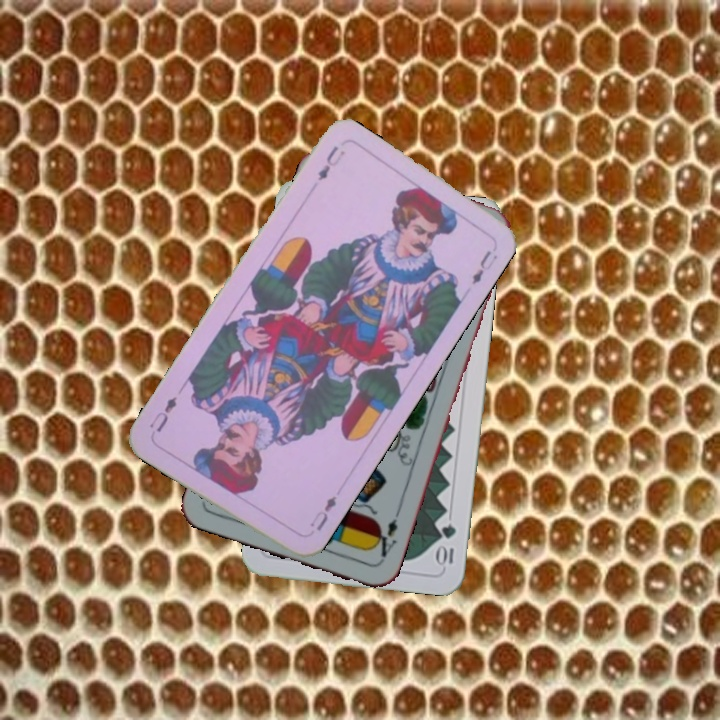EA: (369, 514, 400, 564)
EU: (305, 491, 339, 534), (314, 141, 348, 184)
G10: (434, 519, 458, 569)
